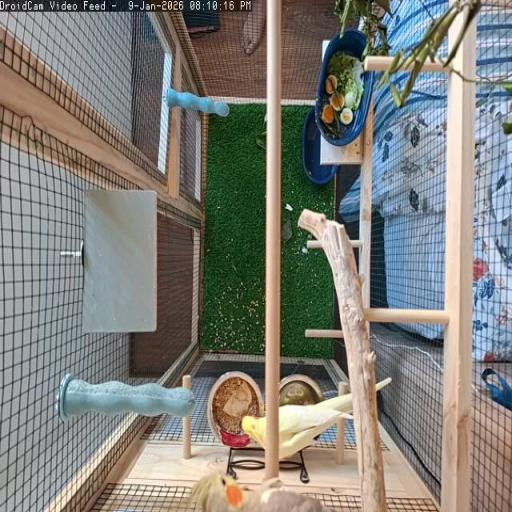bebedero: (280, 374, 324, 405)
comedero: (206, 371, 262, 447)
ninfa: (187, 473, 330, 511), (279, 394, 352, 459), (242, 415, 275, 449)
